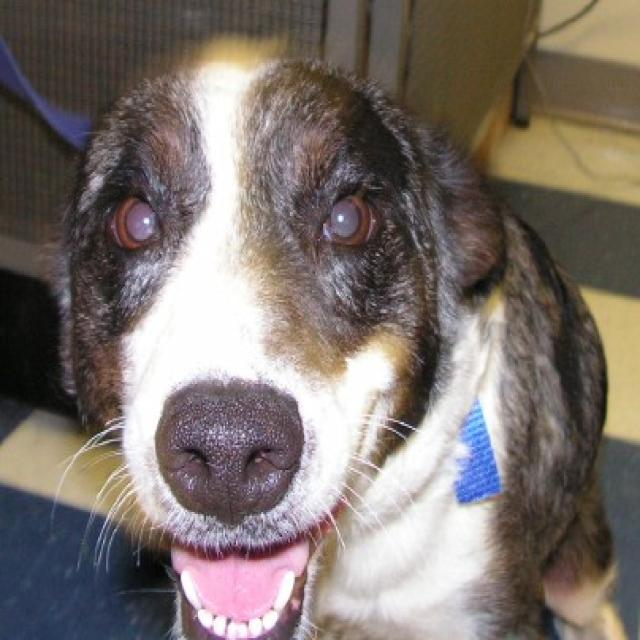Dogs: (43, 31, 638, 638)
